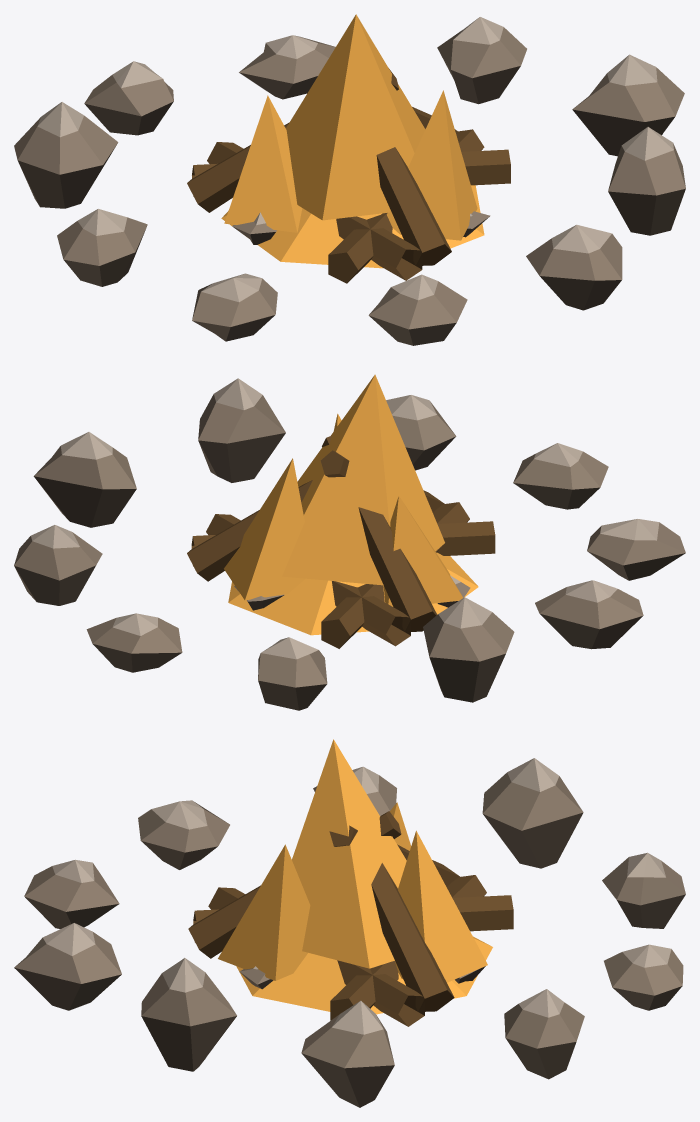
The model's file is Campfire.fbx.
3 renders of one model, top to bottom at view 1: azimuth 30°, elevation 25°; view 2: azimuth 150°, elevation 25°; view 3: azimuth 270°, elevation 25°, orthographic. The views are drawn at different scales.
Parts seen in each view (by area): view 1: Campfire; view 2: Campfire; view 3: Campfire.
Boxes of the visible parts, x1,y1,x2,y2 form: Campfire: (14, 14, 685, 345); Campfire: (14, 374, 685, 710); Campfire: (14, 739, 685, 1107).
Bounding box in the file's own units: 189 × 62 × 176.
